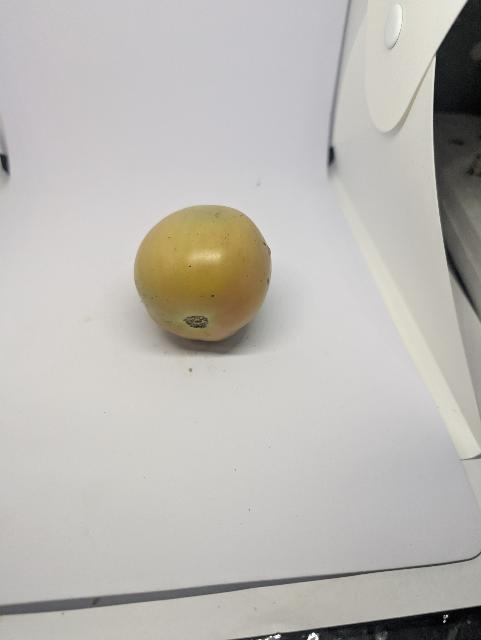breaker: (131, 199, 280, 346)
